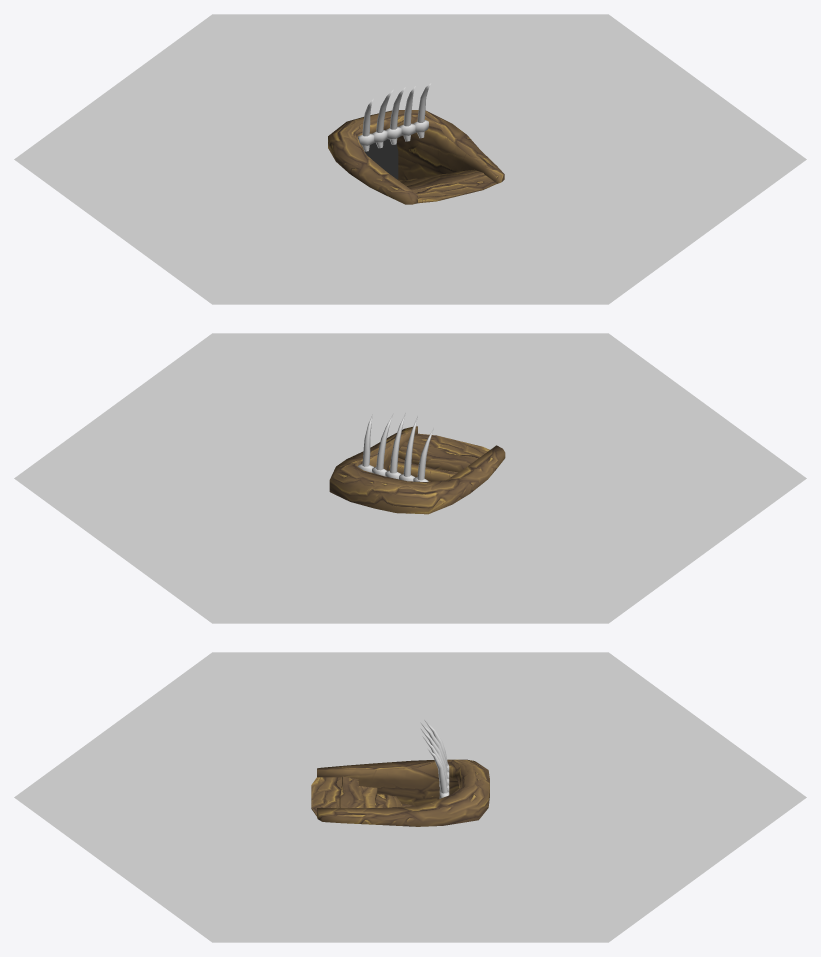
The model's file is Hex_Stairs.FBX.
The picture shows the model from 3 angles, top to bottom: view 1: azimuth 30°, elevation 25°; view 2: azimuth 150°, elevation 25°; view 3: azimuth 270°, elevation 25°; orthographic projection.
Parts seen in each view (by area): view 1: Hex_Stairs, Prop_StairsDown, StairsDown_Gate; view 2: Hex_Stairs, Prop_StairsDown, StairsDown_Gate; view 3: Hex_Stairs, Prop_StairsDown, StairsDown_Gate.
Boxes of the visible parts, x1,y1,x2,y2 form: Hex_Stairs: (14, 14, 806, 304); Prop_StairsDown: (328, 110, 504, 204); StairsDown_Gate: (358, 83, 430, 151); Hex_Stairs: (14, 333, 806, 623); Prop_StairsDown: (329, 426, 505, 514); StairsDown_Gate: (357, 413, 433, 481); Hex_Stairs: (14, 652, 806, 942); Prop_StairsDown: (311, 759, 489, 826); StairsDown_Gate: (420, 720, 449, 798).
Size of the model in its own units: 30.31 by 6.19 by 35.
